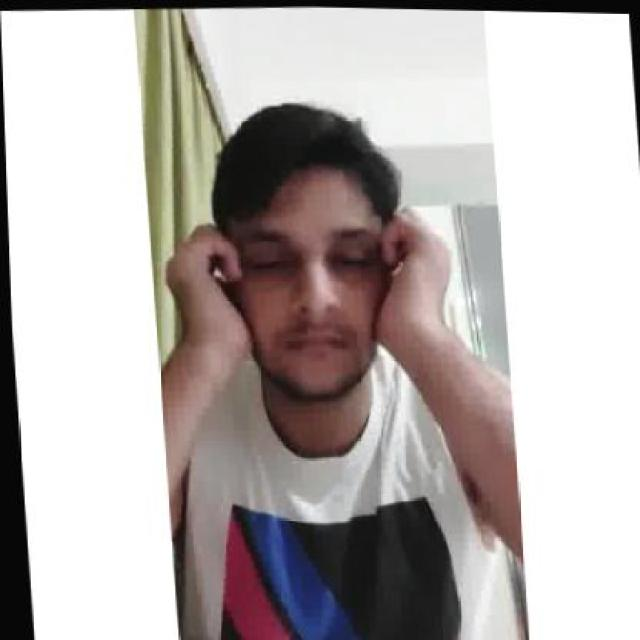inattentif: (208, 101, 402, 407)
